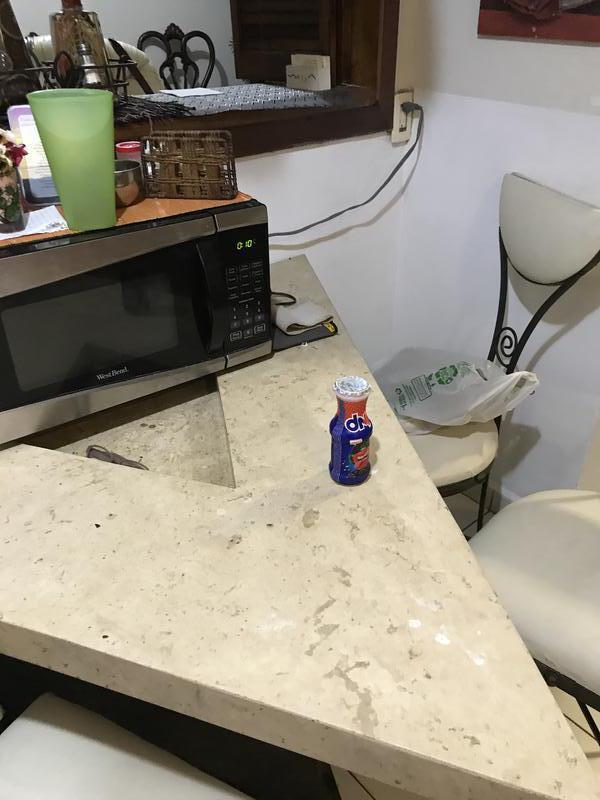danup: (329, 377, 375, 487)
